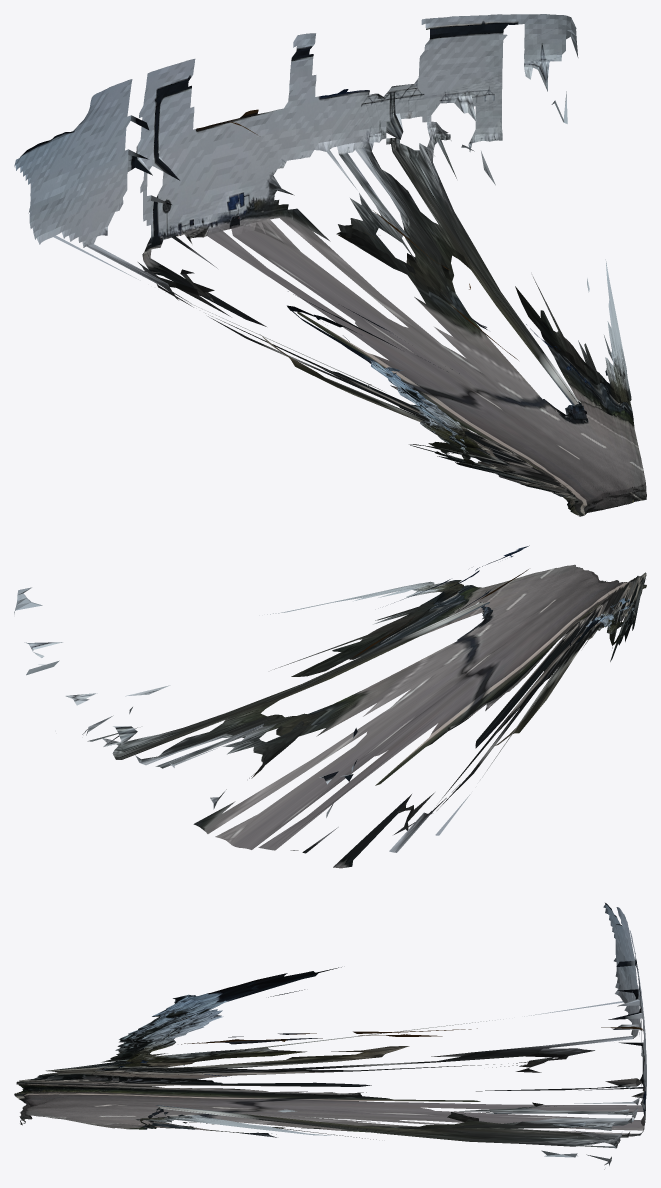
3 renders of one model, top to bottom at view 1: azimuth 30°, elevation 25°; view 2: azimuth 150°, elevation 25°; view 3: azimuth 270°, elevation 25°, orthographic. The views are drawn at different scales.
Visible parts, largest first — view 1: defaultobject; view 2: defaultobject; view 3: defaultobject.
Part boxes in pixels (box(x1,y1,x2,y2)): defaultobject: box(14, 14, 646, 516); defaultobject: box(14, 545, 646, 868); defaultobject: box(14, 903, 646, 1169).
Bounding box in the file's own units: 35.65 × 12.39 × 44.78.
Materials: 1 (1 with a texture image).
